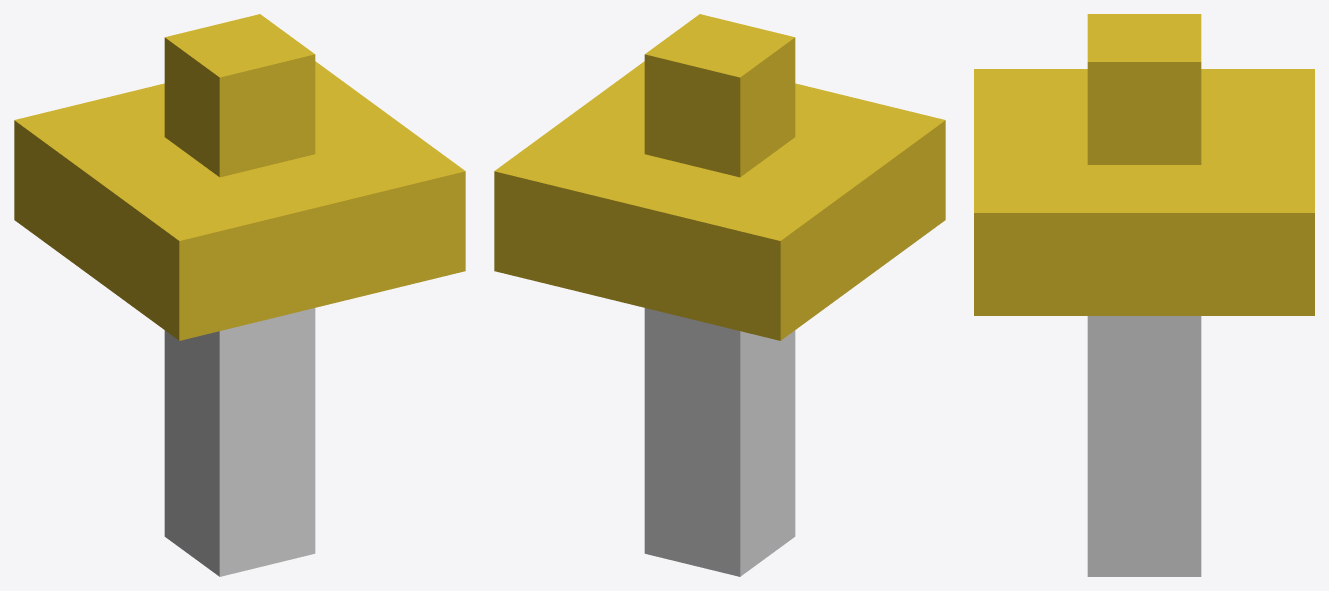
File: fungusORANGE.fbx
3 renders of one model, left to right at view 1: azimuth 30°, elevation 25°; view 2: azimuth 150°, elevation 25°; view 3: azimuth 270°, elevation 25°, orthographic. The views are drawn at different scales.
Parts seen in each view (by area): view 1: Cube.002; view 2: Cube.002; view 3: Cube.002.
Boxes of the visible parts, x1,y1,x2,y2 form: Cube.002: (14,14,465,576); Cube.002: (494,14,945,576); Cube.002: (974,14,1314,576).
Bounding box in the file's own units: 300 × 500 × 300.
